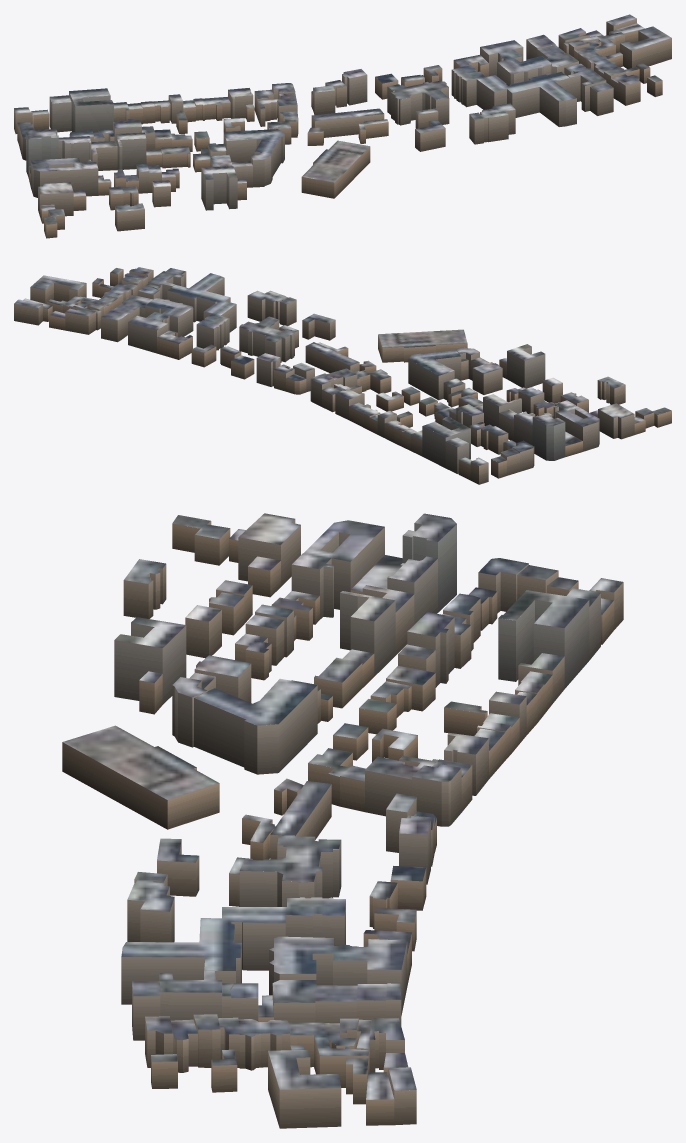
3 renders of one model, top to bottom at view 1: azimuth 30°, elevation 25°; view 2: azimuth 150°, elevation 25°; view 3: azimuth 270°, elevation 25°, orthographic. The views are drawn at different scales.
Size of the model in its own units: 469 by 26.34 by 189.
Materials: 2 (2 with a texture image).
